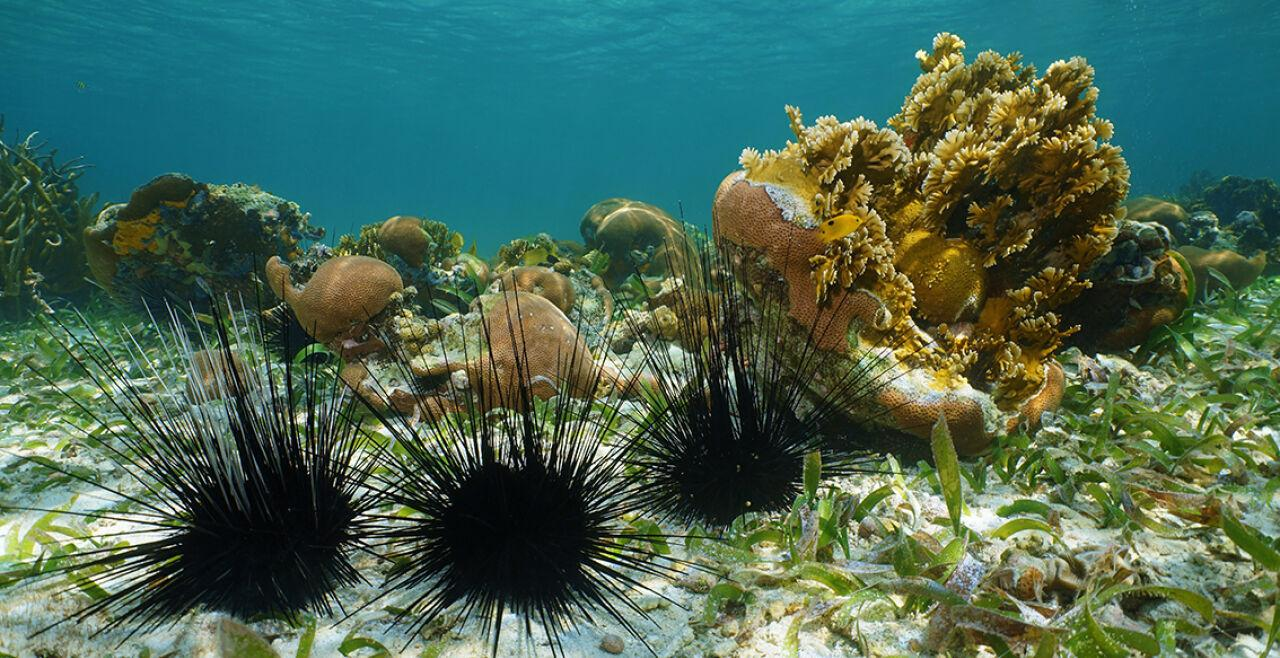urchin: (1, 252, 429, 644), (326, 269, 739, 658), (545, 197, 924, 537)
